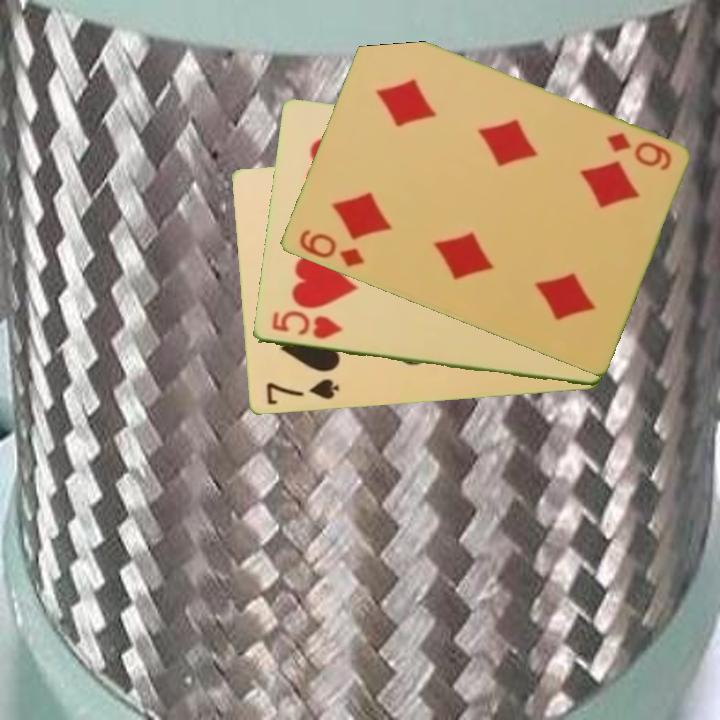5h: (268, 308, 344, 343)
6d: (602, 129, 674, 175), (295, 226, 367, 271)
7s: (262, 375, 341, 408)
